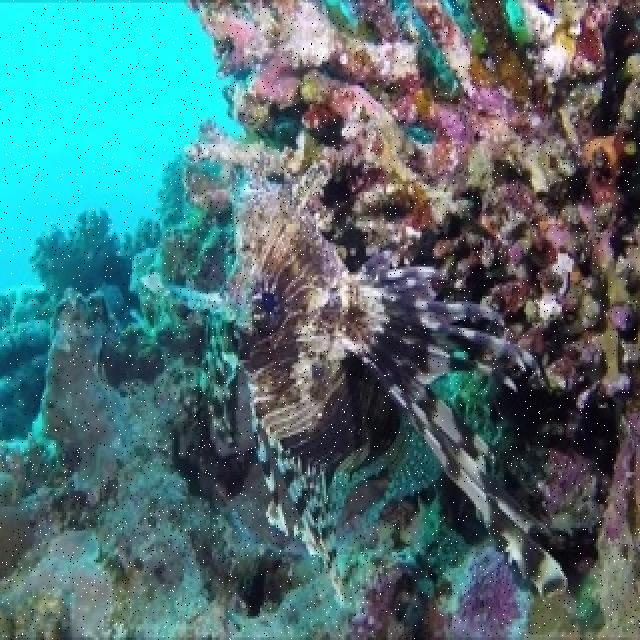aquatic plants: (34, 213, 120, 288)
fish: (137, 186, 565, 602), (366, 364, 504, 520)
reefs: (183, 2, 638, 412)
sea-floor: (0, 287, 637, 637)
